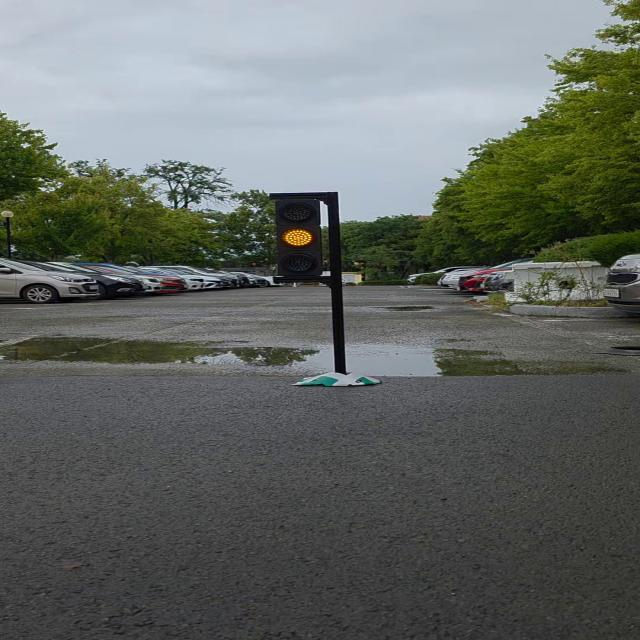yellow: (273, 192, 333, 282)
